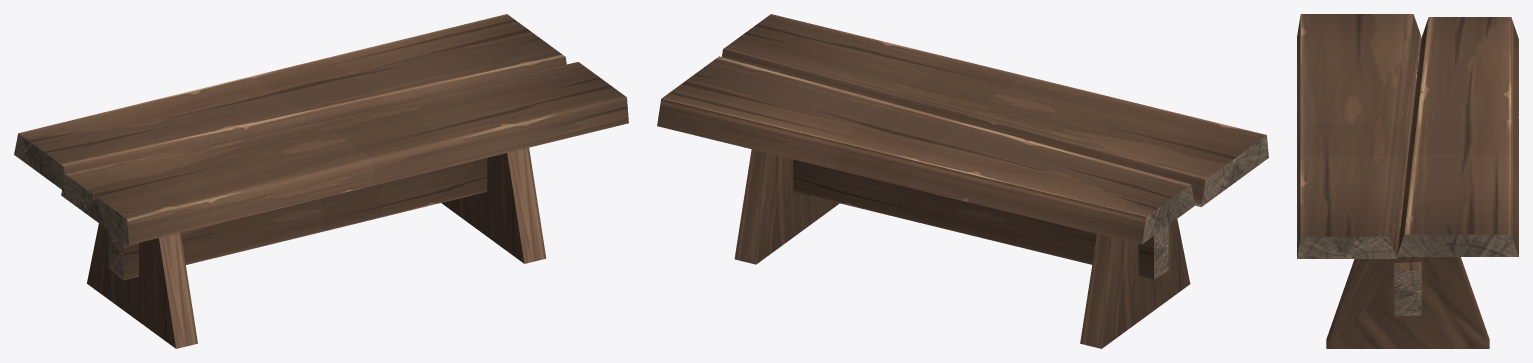
File: Item_Desk.FBX
3 views of the same model, side by side, from view 1: azimuth 30°, elevation 25°; view 2: azimuth 150°, elevation 25°; view 3: azimuth 270°, elevation 25° (orthographic). The views are drawn at different scales.
Visible parts, largest first — view 1: Item_Desk; view 2: Item_Desk; view 3: Item_Desk.
Part boxes in pixels (<box>): Item_Desk: <box>14,14,628,348</box>; Item_Desk: <box>657,14,1268,348</box>; Item_Desk: <box>1297,14,1518,348</box>.
Size of the model in its own units: 277 by 82.36 by 117.
